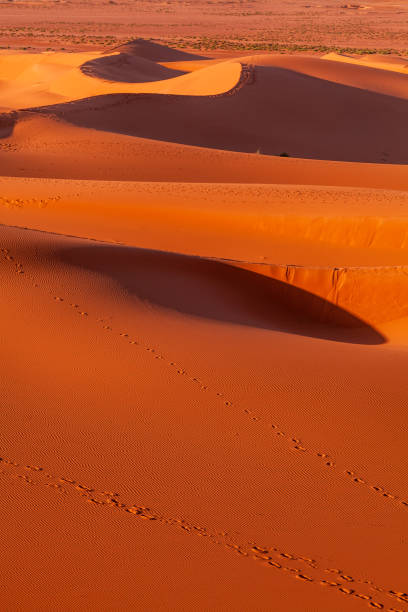animal_footprint: (0, 457, 407, 611), (48, 290, 233, 407)
